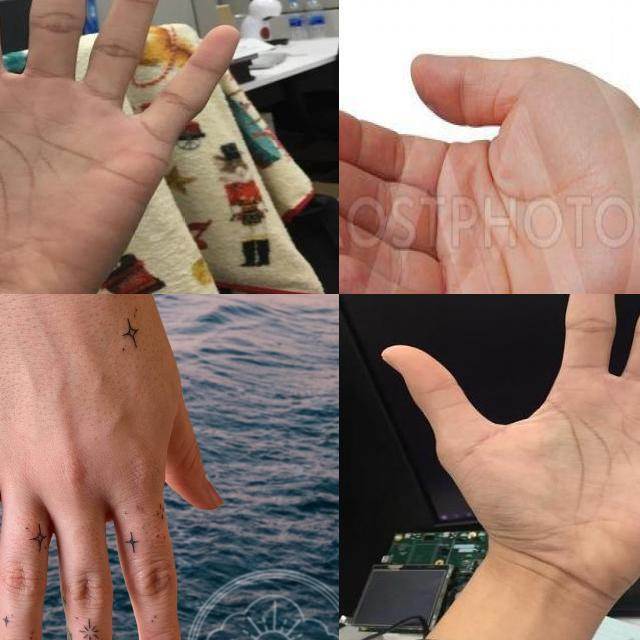no-gloves: (378, 294, 640, 599), (0, 294, 223, 640), (0, 0, 249, 294), (339, 53, 640, 294)
